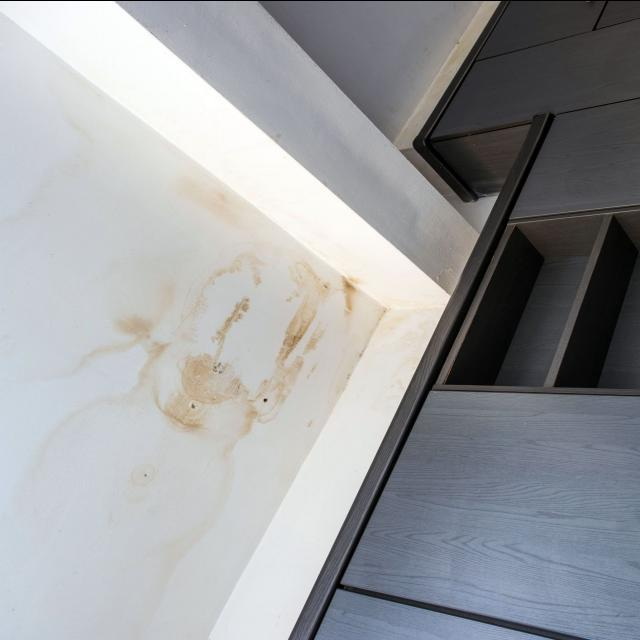Crack: (260, 392, 271, 403), (188, 402, 198, 413), (142, 473, 150, 478)
leak: (108, 156, 356, 488)
